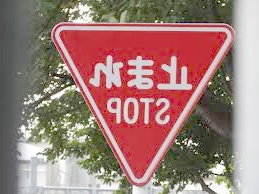Regulatory_sign_triangle: (50, 17, 245, 181)
